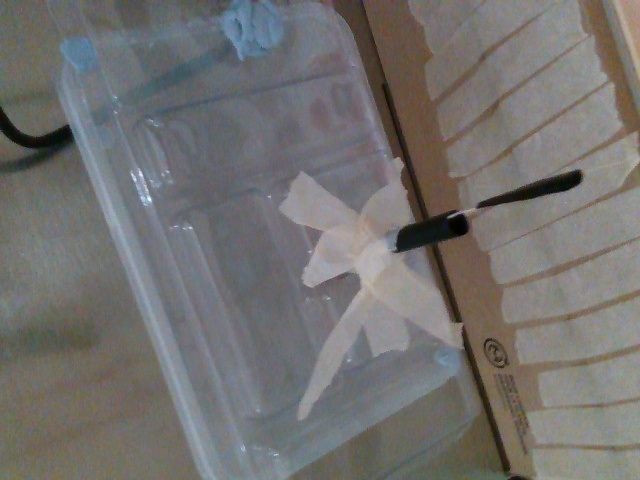test_strip: (448, 167, 583, 220)
